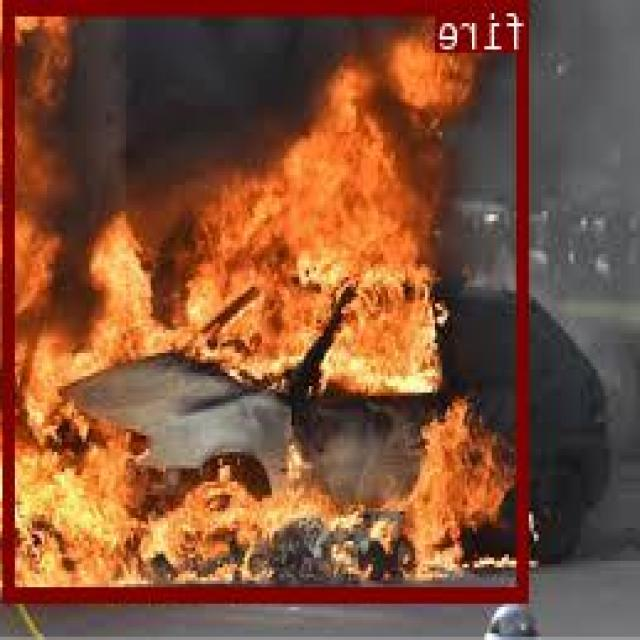fire: (6, 0, 530, 600)
